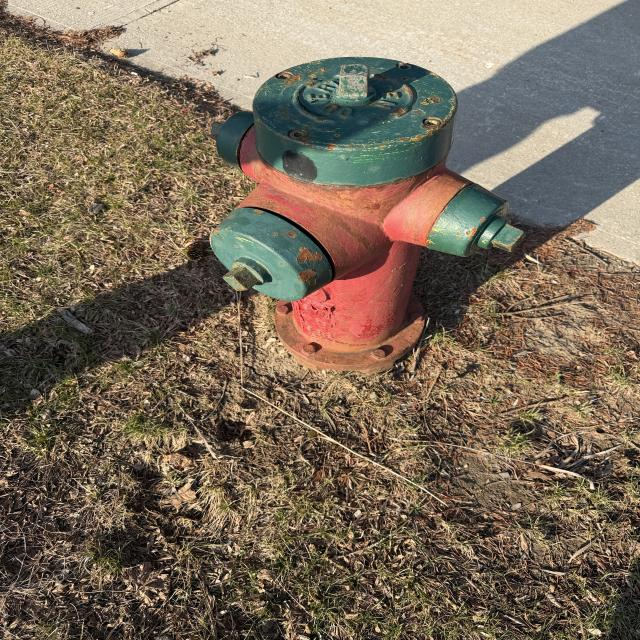Fire hydrant: (209, 56, 526, 375)
